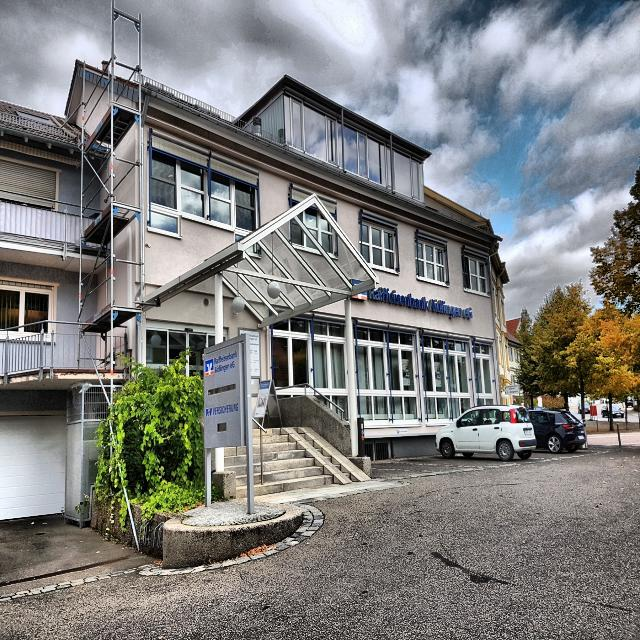escada: (252, 428, 334, 496)
